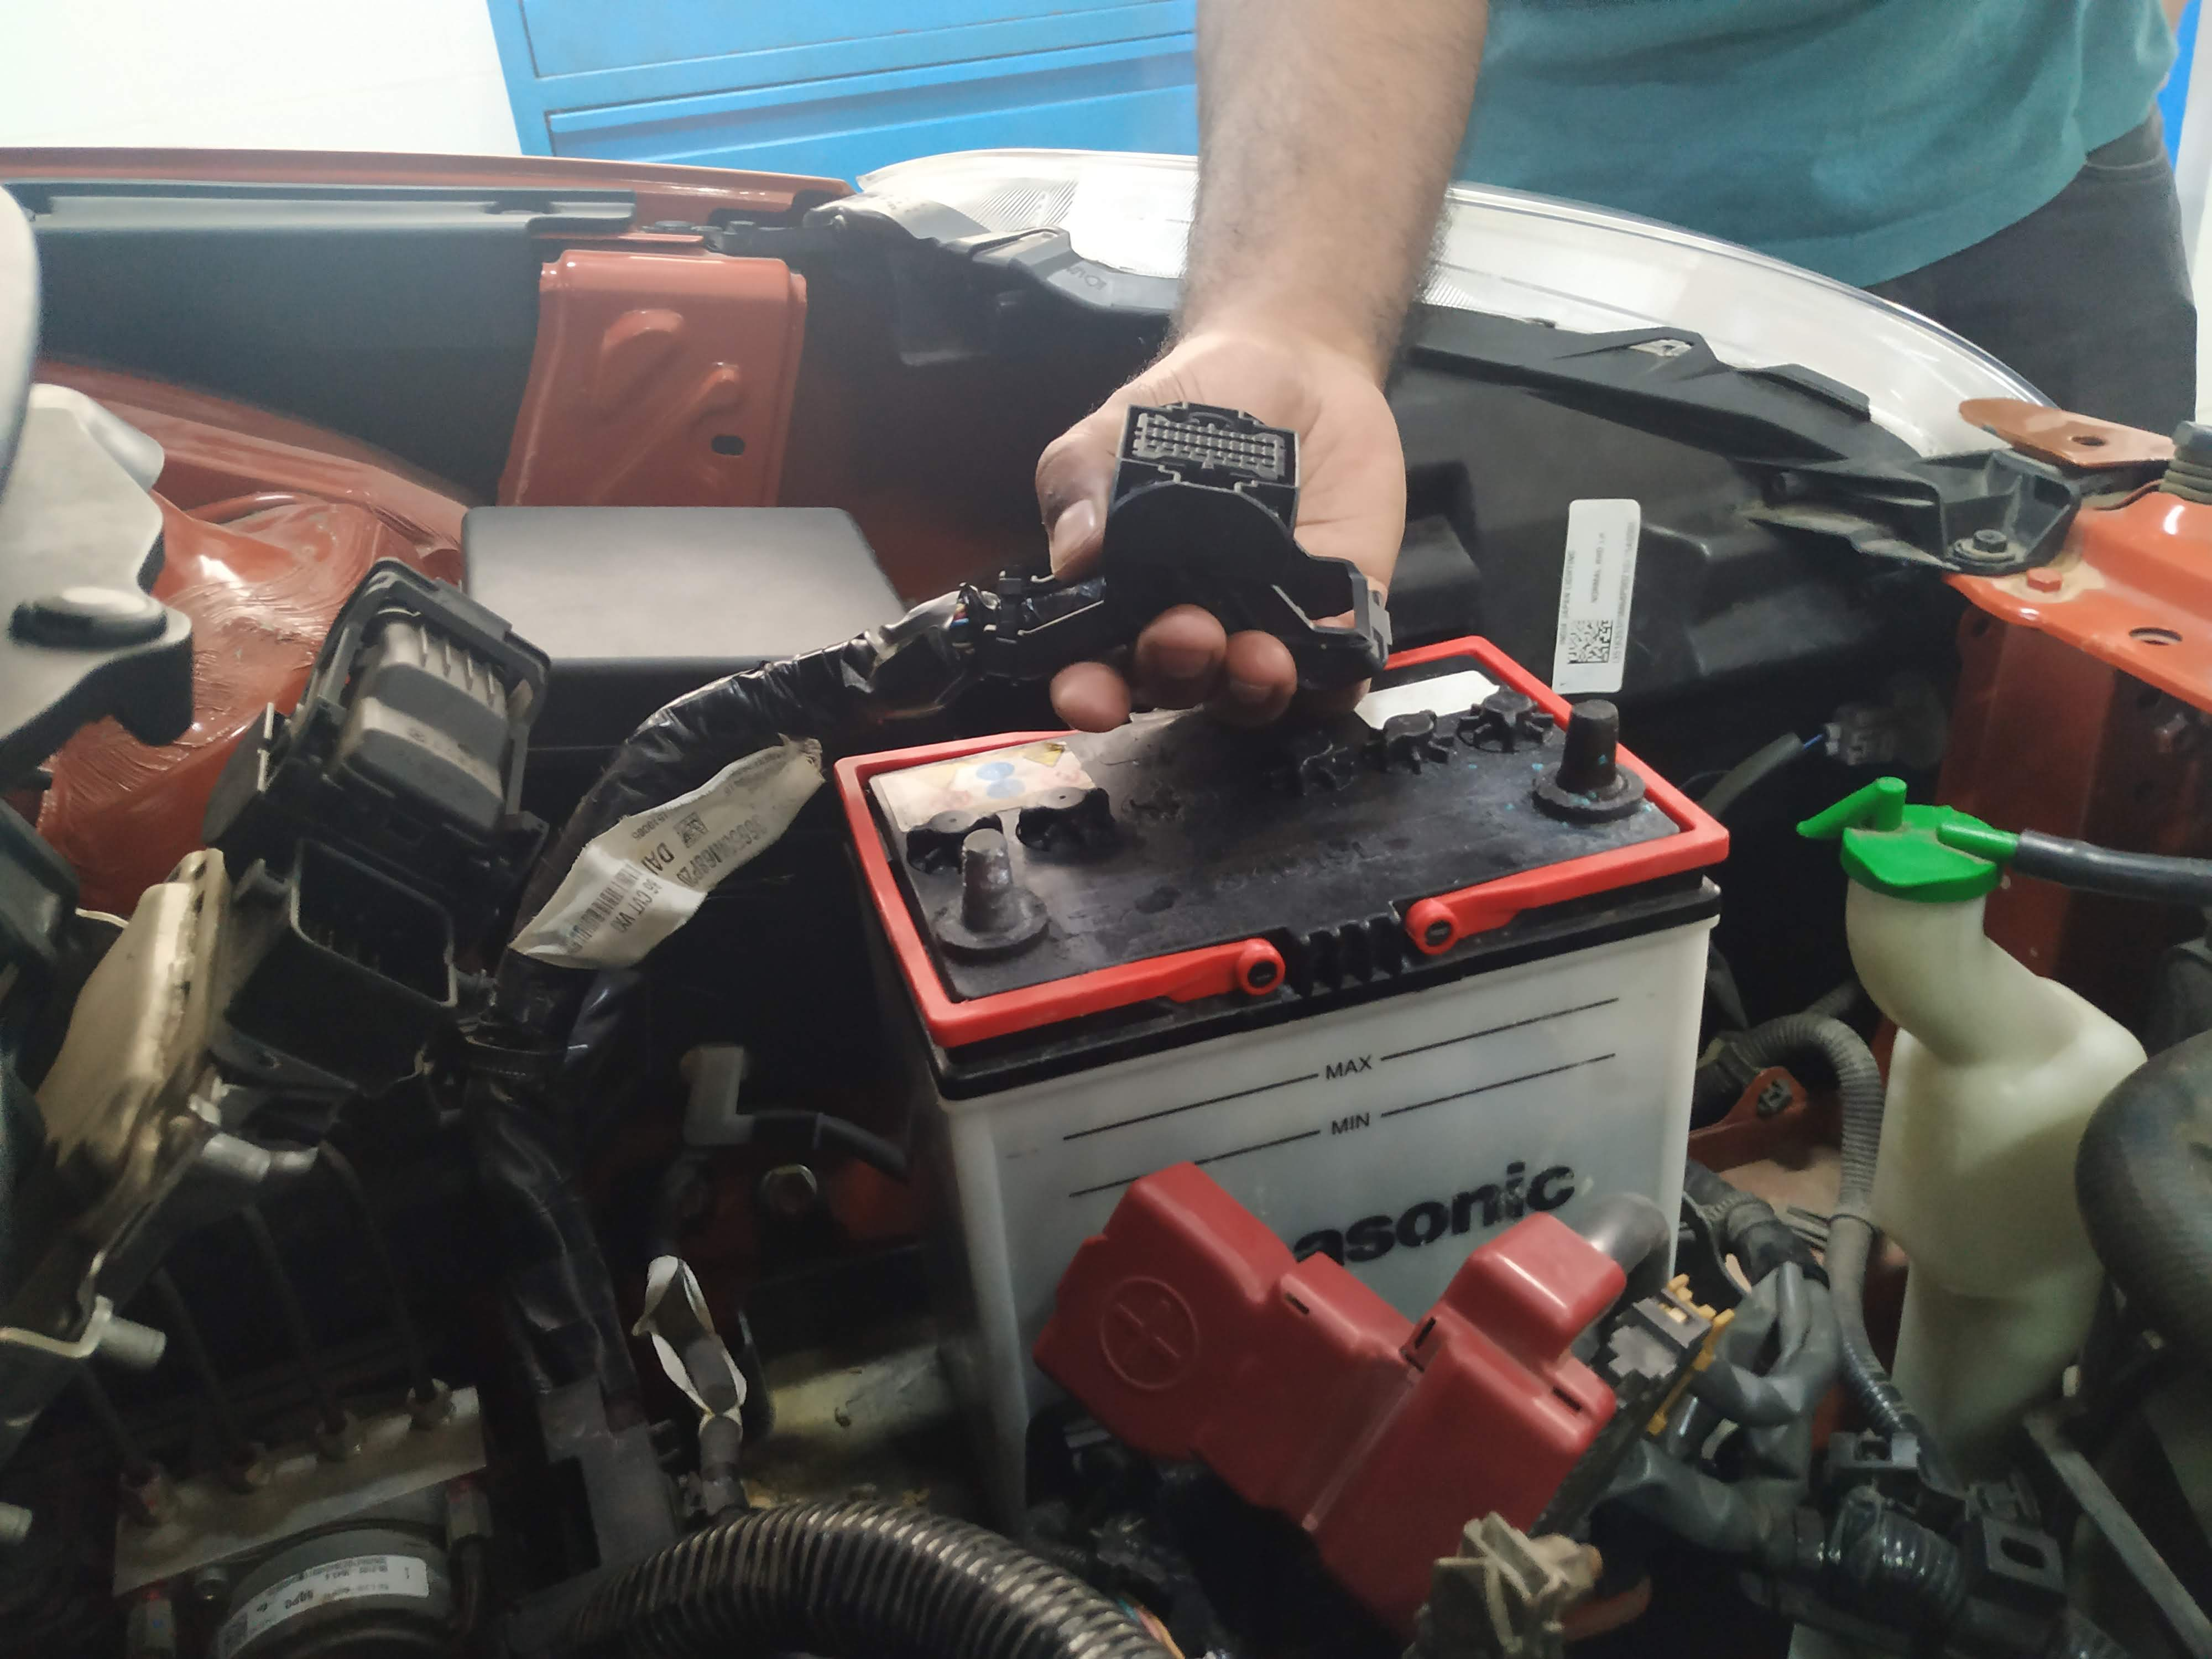connector: (1111, 392, 1364, 647)
